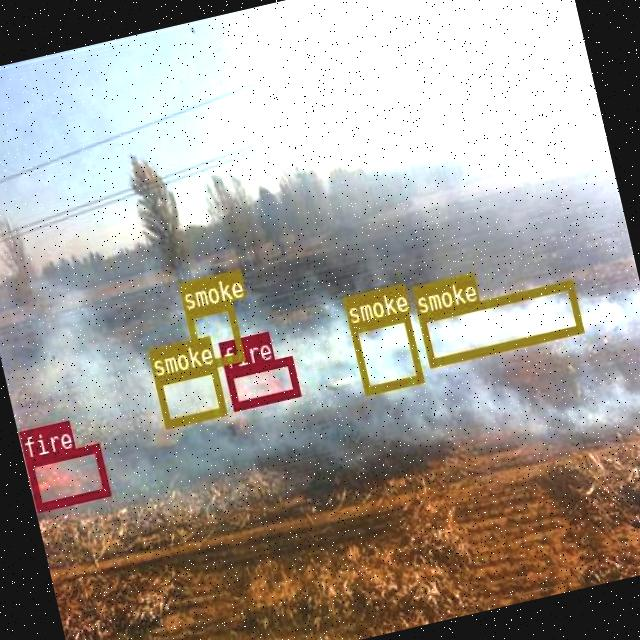fire: (24, 442, 109, 511), (224, 356, 298, 410)
smoke: (416, 279, 582, 366), (349, 312, 421, 393), (153, 362, 226, 427), (184, 300, 244, 370)
